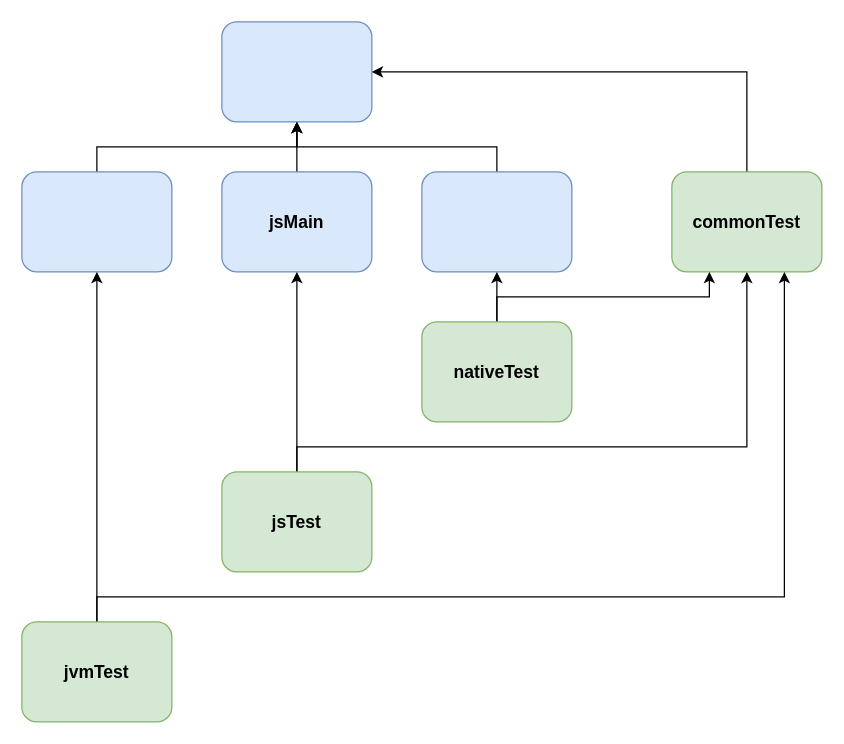
Some shapes in this 844 by 744 pixel diagram are drawn without their labels. Each missing label, with the box of its shape:
commonMain: (221, 21, 372, 122)
jvmMain: (21, 171, 172, 272)
nativeMain: (421, 171, 572, 272)
